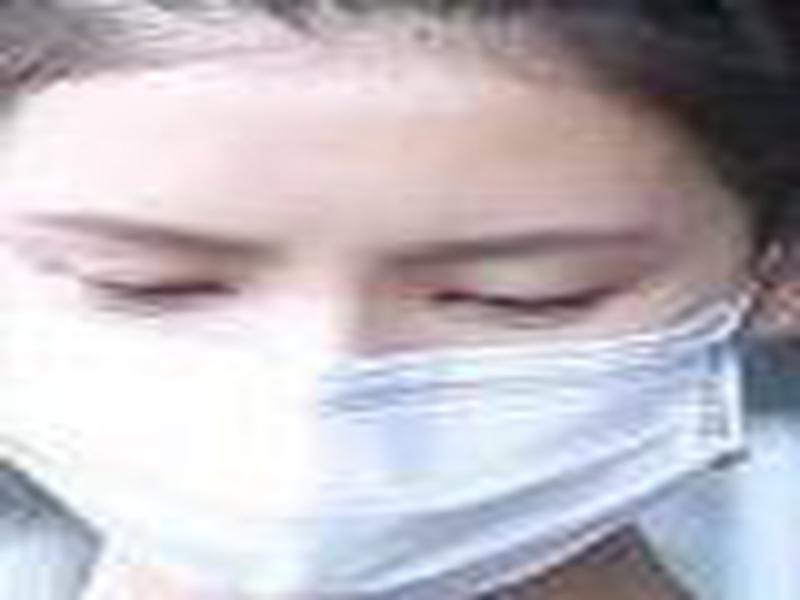with_mask: (1, 1, 779, 597)
